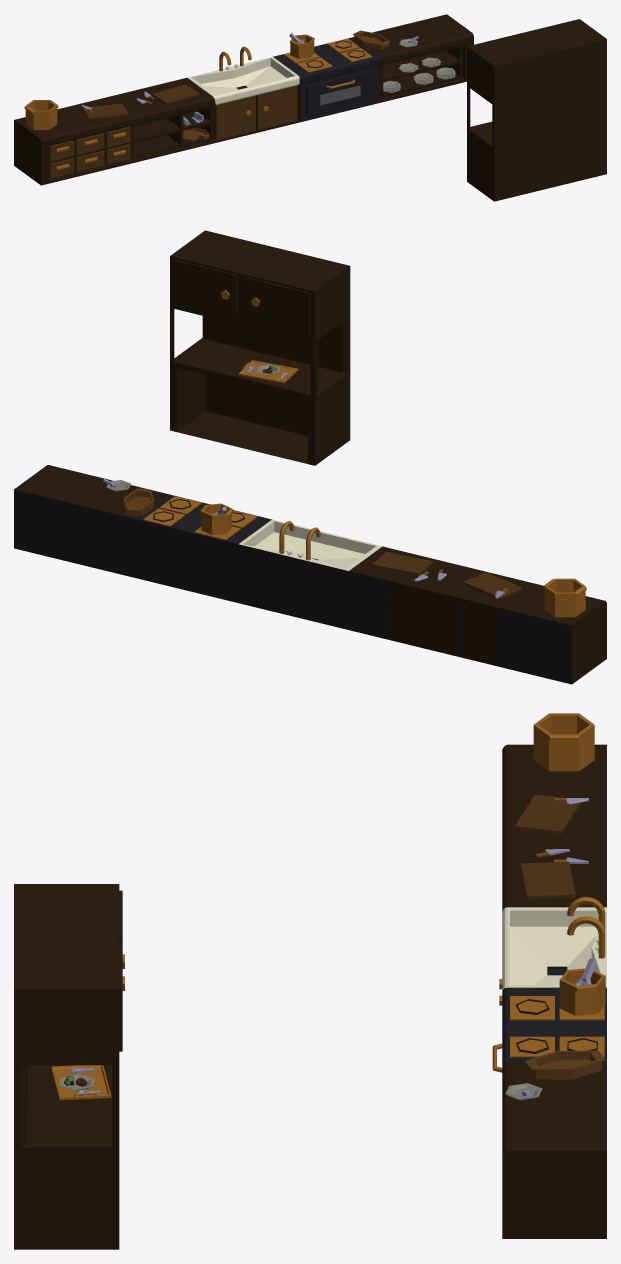
Rendered from Kitchen.glb.
The picture shows the model from 3 angles, top to bottom: view 1: azimuth 30°, elevation 25°; view 2: azimuth 150°, elevation 25°; view 3: azimuth 270°, elevation 25°; orthographic projection. The views are drawn at different scales.
Parts seen in each view (by area): view 1: Kitchen-col; view 2: Kitchen-col; view 3: Kitchen-col.
Part boxes in pixels (x1,y1,x2,y2): Kitchen-col: [14, 14, 606, 201]; Kitchen-col: [14, 230, 606, 684]; Kitchen-col: [14, 713, 606, 1249].
Bounding box in the file's own units: 5.95 × 1.75 × 3.62.
